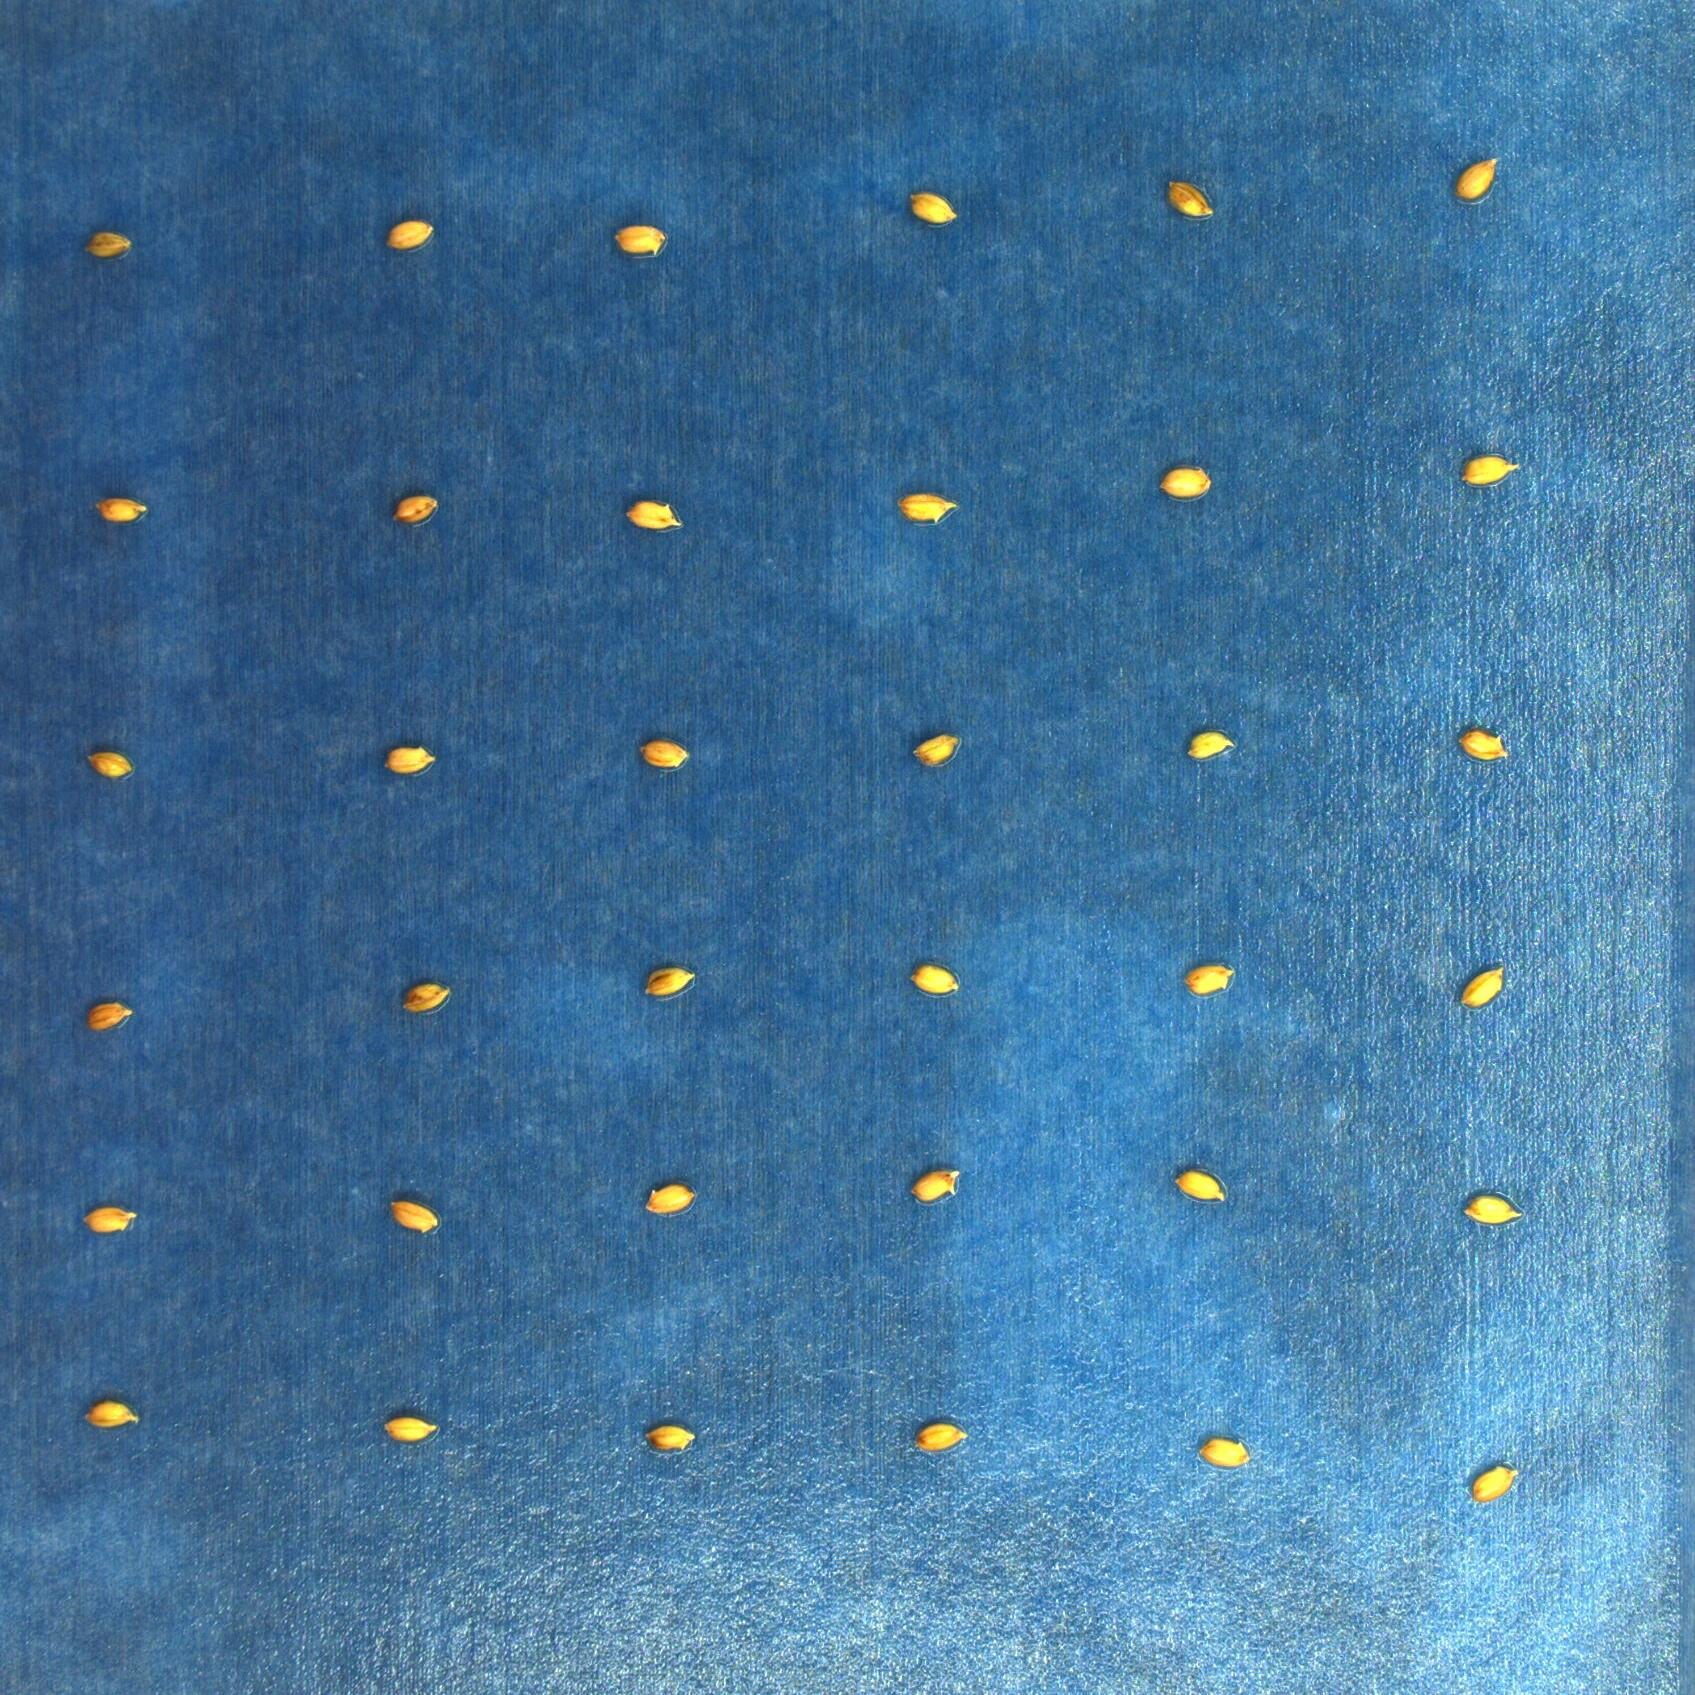not sprout: (1454, 155, 1499, 200), (1461, 453, 1521, 486), (910, 1167, 962, 1205), (1198, 1434, 1251, 1471), (1461, 967, 1506, 1010), (1464, 1194, 1523, 1226), (84, 1399, 143, 1431), (1473, 1464, 1521, 1503), (899, 494, 958, 525), (1166, 182, 1214, 219), (908, 189, 958, 225), (1459, 728, 1509, 764), (390, 1200, 439, 1236), (640, 736, 691, 770), (385, 217, 435, 251), (626, 500, 680, 531), (383, 744, 438, 775), (1159, 467, 1211, 500), (1175, 1172, 1226, 1205), (383, 1414, 435, 1447), (646, 1184, 694, 1218), (615, 224, 667, 255), (646, 967, 695, 1000), (913, 733, 959, 767), (85, 1000, 132, 1034), (400, 983, 452, 1014), (82, 1208, 138, 1236), (85, 750, 133, 781), (913, 964, 959, 995), (917, 1423, 969, 1451), (96, 497, 147, 523), (393, 495, 438, 525), (1184, 733, 1234, 759), (646, 1426, 698, 1451), (85, 231, 132, 259), (1187, 965, 1232, 993)
